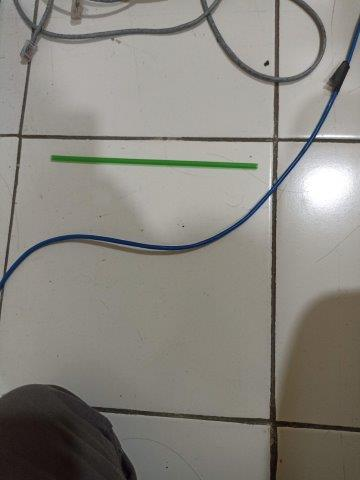sedotan: (51, 155, 258, 169)
